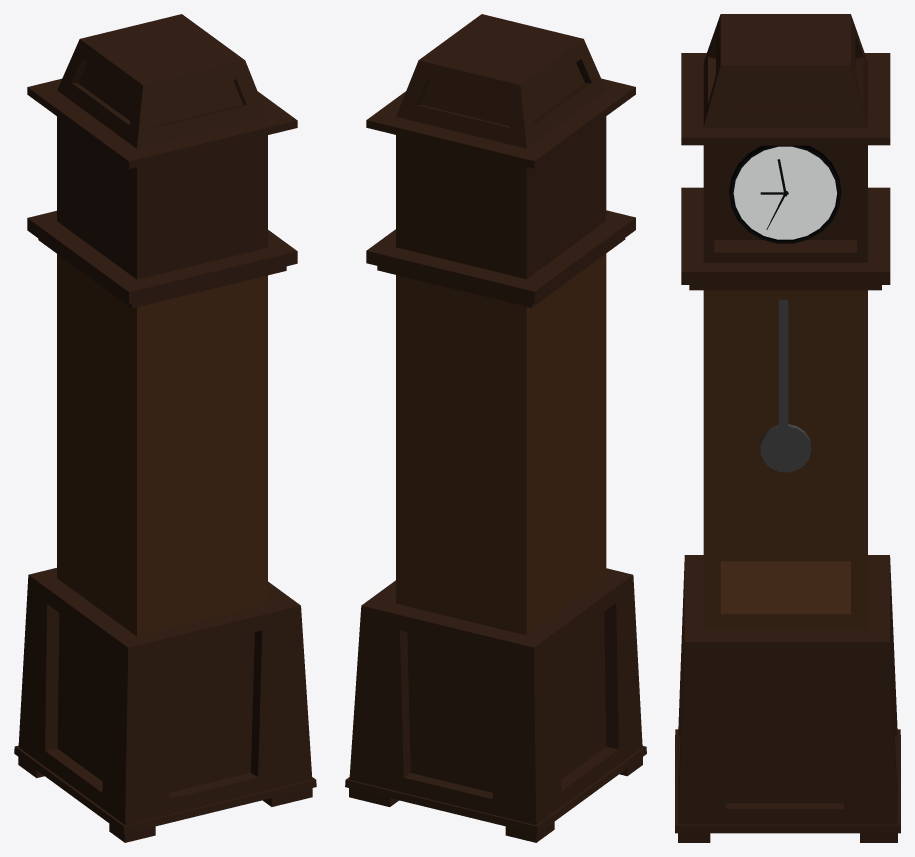
File: Horloge.fbx
The picture shows the model from 3 angles, left to right: view 1: azimuth 30°, elevation 25°; view 2: azimuth 150°, elevation 25°; view 3: azimuth 270°, elevation 25°; orthographic projection. The views are drawn at different scales.
Visible parts, largest first — view 1: Horloge; view 2: Horloge; view 3: Horloge.
Boxes of the visible parts, bbox=[...] form: Horloge: bbox=[14, 14, 316, 842]; Horloge: bbox=[345, 14, 646, 842]; Horloge: bbox=[675, 14, 900, 842].
Bounding box in the file's own units: 71.95 × 261 × 70.94.
